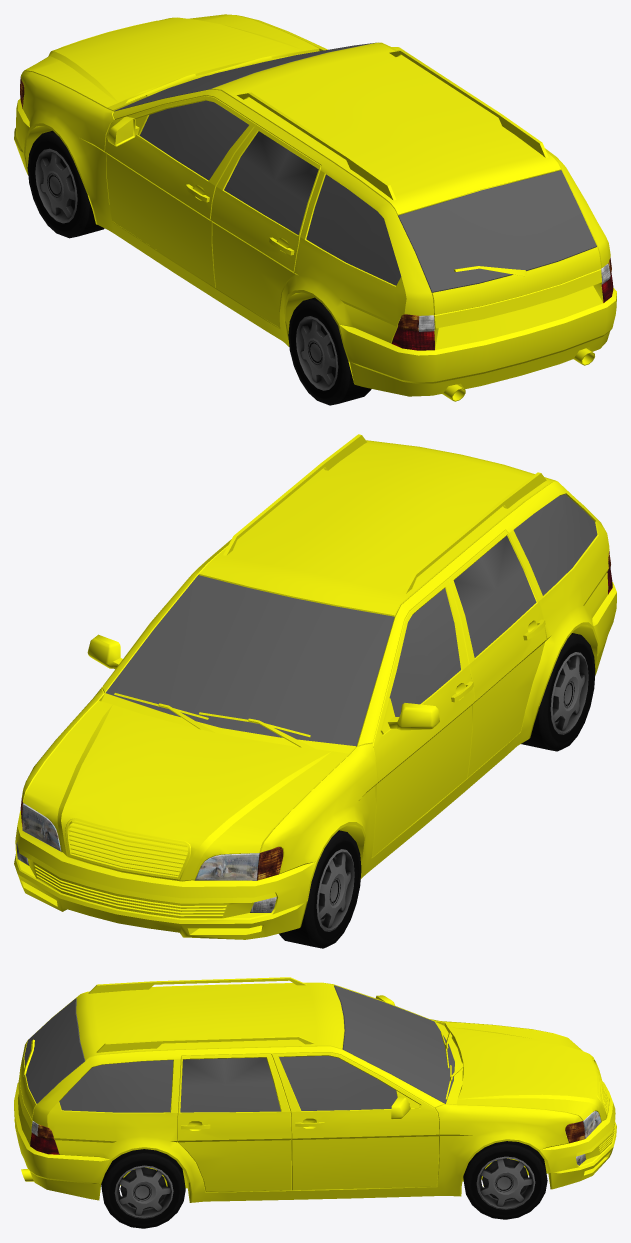
Rendered from pack_wagon.glb.
3 views of the same model, one above another, from view 1: azimuth 30°, elevation 25°; view 2: azimuth 150°, elevation 25°; view 3: azimuth 270°, elevation 25° (orthographic). The views are drawn at different scales.
Parts seen in each view (by area): view 1: Wagon Body, Wheel_A001.001, Wheel_A.001; view 2: Wagon Body, Wheel_A.001, Wheel_A001.001; view 3: Wagon Body, Wheel_A003.001, Wheel_A002.001.
Boxes of the visible parts, <box> form: Wagon Body: <box>14,14,616,401</box>; Wheel_A001.001: <box>288,297,371,405</box>; Wheel_A.001: <box>27,130,104,238</box>; Wagon Body: <box>14,434,616,939</box>; Wheel_A.001: <box>279,830,361,948</box>; Wheel_A001.001: <box>521,633,595,751</box>; Wagon Body: <box>14,977,616,1202</box>; Wheel_A003.001: <box>101,1149,185,1228</box>; Wheel_A002.001: <box>463,1141,547,1219</box>.
Bounding box in the file's own units: 2.19 × 1.55 × 4.93.
4 materials, 2 textured.
